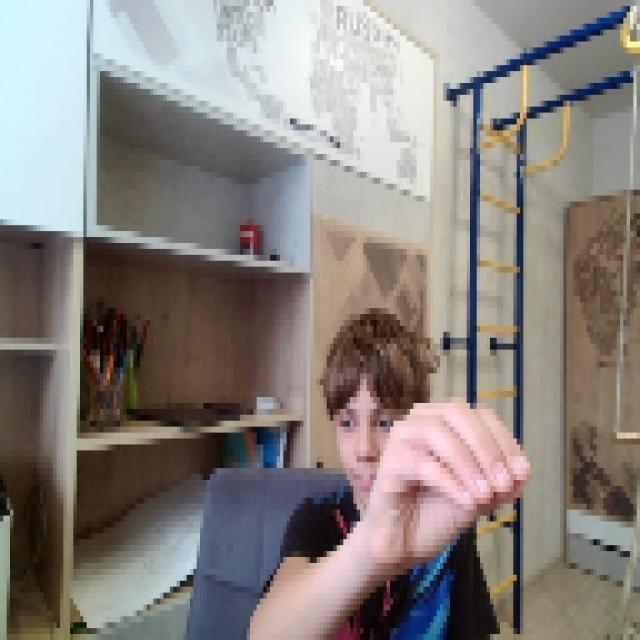left_click: (366, 385, 526, 563)
